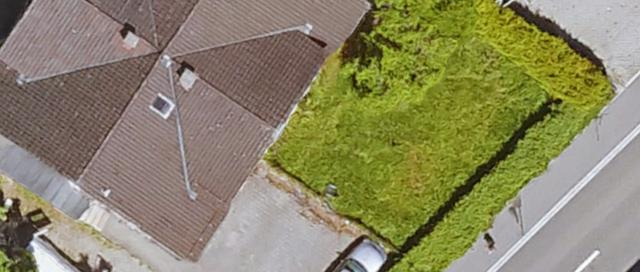tree: (353, 0, 479, 104)
